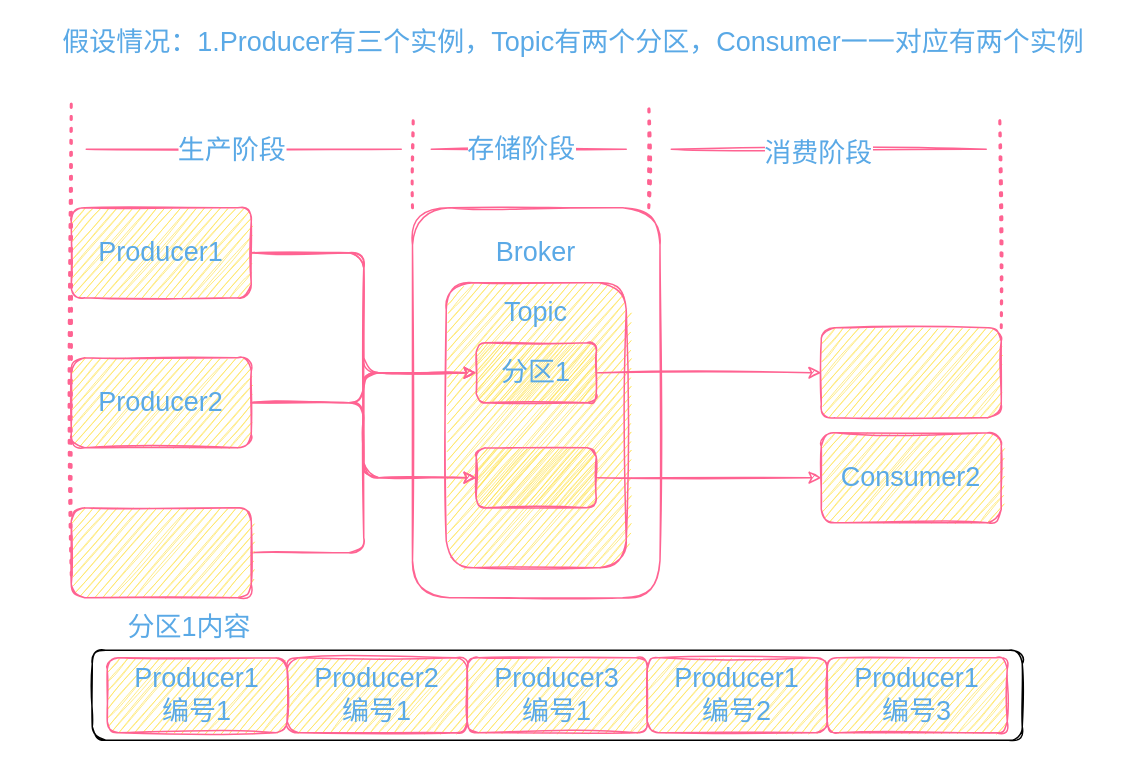
Image size: 1146x767. Some labels were removed from this diagram. The shapes that lost their labels are listed below. From the top down, each one's centre as x and y in pixels, then its label:
(x=910, y=372): Consumer1
(x=535, y=477): 分区2
(x=160, y=552): Producer3
